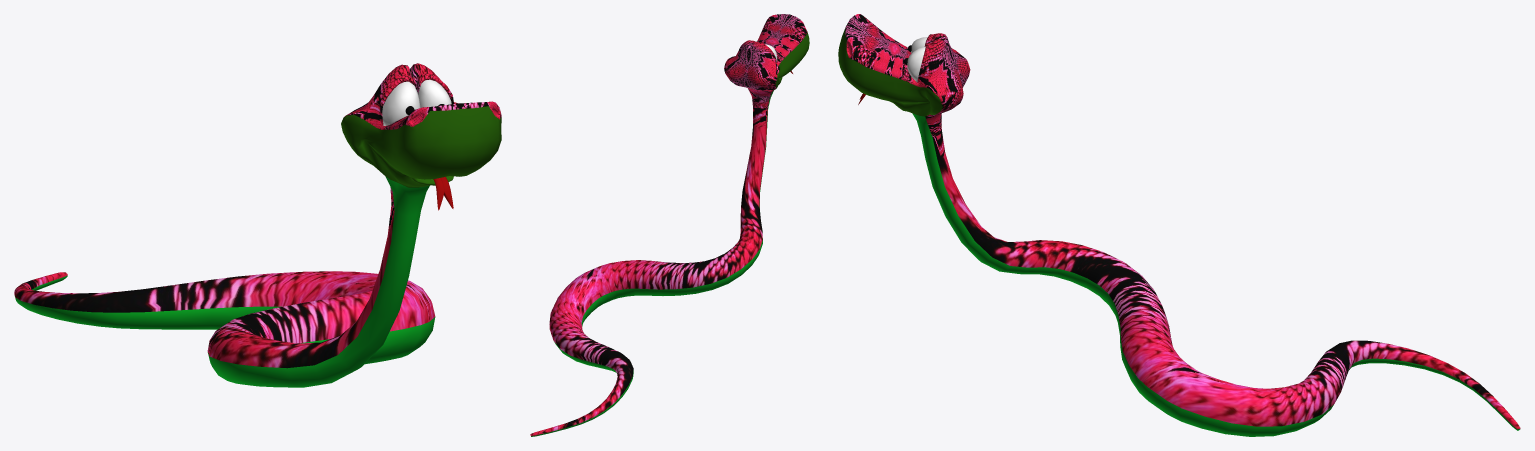
Rendered from snake.obj.
3 views of the same model, side by side, from view 1: azimuth 30°, elevation 25°; view 2: azimuth 150°, elevation 25°; view 3: azimuth 270°, elevation 25° (orthographic). The views are drawn at different scales.
Parts seen in each view (by area): view 1: Kaa; view 2: Kaa; view 3: Kaa.
Part boxes in pixels (box(x1,y1,x2,y2)): Kaa: box(14, 63, 501, 387); Kaa: box(530, 14, 809, 436); Kaa: box(838, 14, 1520, 436).
Bounding box in the file's own units: 672 × 1167 × 1875.
